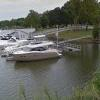Boat: (2, 36, 69, 64)
